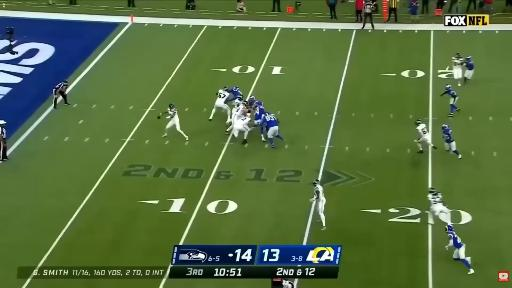Helmet: (446, 226, 453, 234), (314, 179, 321, 186), (443, 84, 450, 91), (429, 188, 436, 195), (248, 96, 257, 101), (236, 95, 245, 100), (169, 103, 175, 110), (258, 101, 264, 106), (243, 102, 249, 107), (455, 53, 461, 58), (415, 120, 421, 125), (443, 124, 449, 129), (223, 86, 228, 91), (234, 86, 238, 92), (265, 113, 270, 117), (467, 56, 471, 60)
Jersey: (448, 232, 464, 249), (263, 113, 278, 128), (255, 106, 265, 124), (314, 184, 325, 200), (216, 90, 229, 103), (416, 124, 429, 137), (429, 193, 443, 205), (443, 129, 454, 143), (235, 104, 246, 118), (442, 89, 457, 98), (227, 88, 242, 97), (237, 117, 250, 127), (452, 57, 463, 67), (465, 59, 474, 71), (168, 108, 177, 119), (249, 101, 258, 110), (234, 98, 243, 106)
Player: (445, 225, 474, 274), (162, 104, 188, 141), (428, 188, 451, 224), (310, 180, 326, 230), (226, 101, 250, 134), (261, 113, 283, 148), (209, 90, 231, 123), (415, 120, 436, 153), (442, 124, 461, 158), (441, 85, 459, 117), (254, 102, 266, 141), (233, 117, 250, 144), (227, 96, 243, 124), (452, 53, 464, 86), (464, 56, 474, 84), (224, 86, 242, 99), (248, 95, 256, 108)
